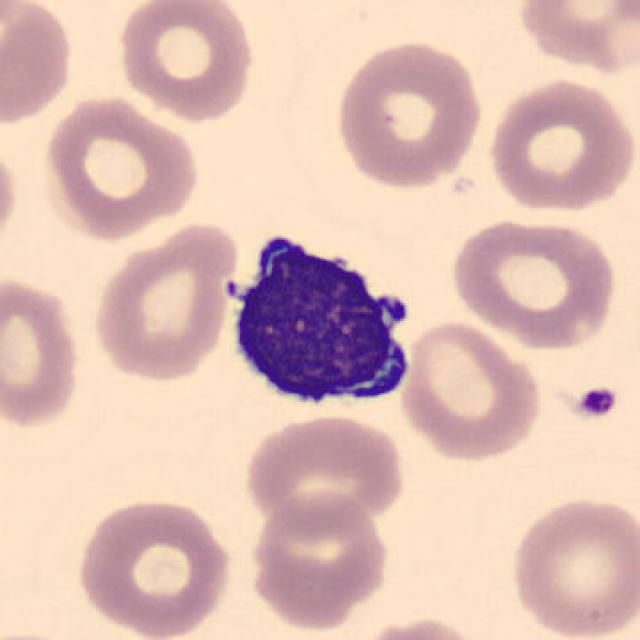Lymphocyte: (213, 219, 427, 423)
Platelets: (574, 382, 622, 422)
RBC: (87, 217, 240, 386), (39, 91, 201, 242), (444, 215, 622, 351), (331, 37, 485, 192), (73, 493, 235, 640), (396, 317, 546, 464), (240, 409, 409, 538), (484, 74, 636, 215), (247, 488, 395, 632), (505, 492, 638, 640), (112, 0, 258, 123), (0, 269, 85, 433), (0, 0, 78, 130), (512, 0, 640, 76), (348, 613, 490, 640), (0, 131, 23, 259)
